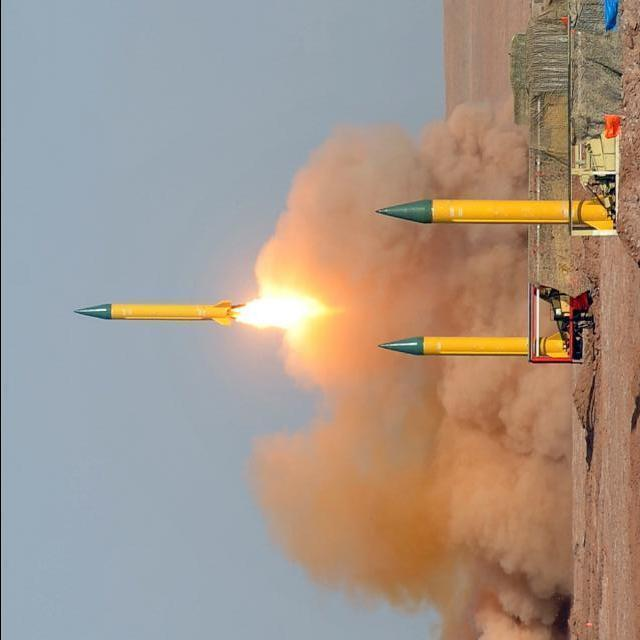missile: (372, 193, 618, 239), (372, 328, 570, 361), (72, 297, 244, 331)
